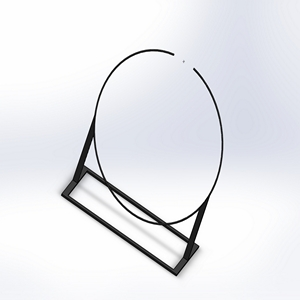circle: (61, 47, 225, 277)
